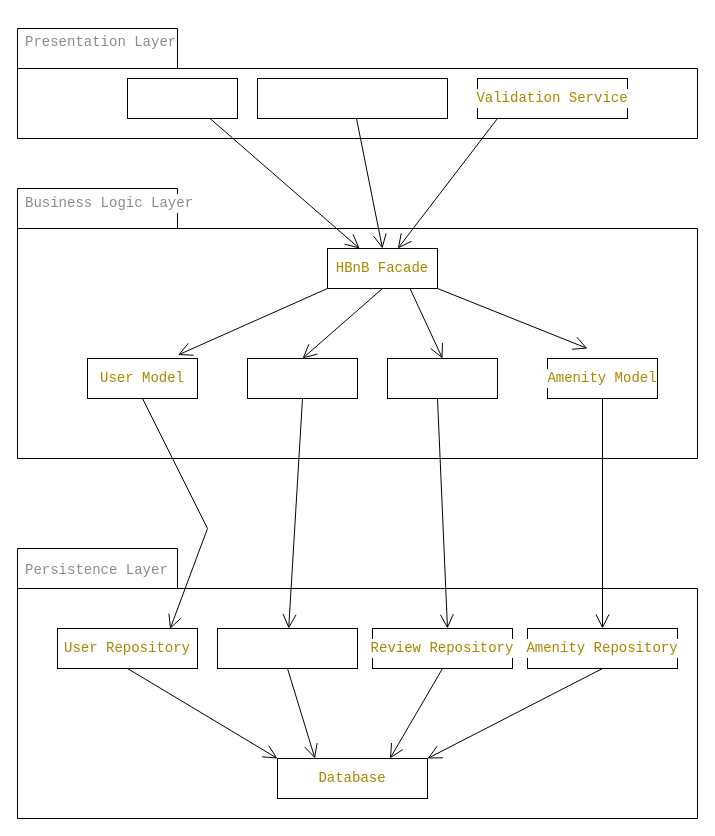
The diagram is 715 pixels wide and 836 high, and some of its shapes have lost their labels. The shapes that lost their labels are listed below. From the top down, each one's box as (x1, y1, x2, y2) in pixels, then its label:
(126, 78, 238, 118): API Services
(256, 78, 448, 118): Authentication Service
(246, 358, 358, 398): Place Model
(386, 358, 498, 398): Review Model
(216, 628, 358, 668): Place Repository
